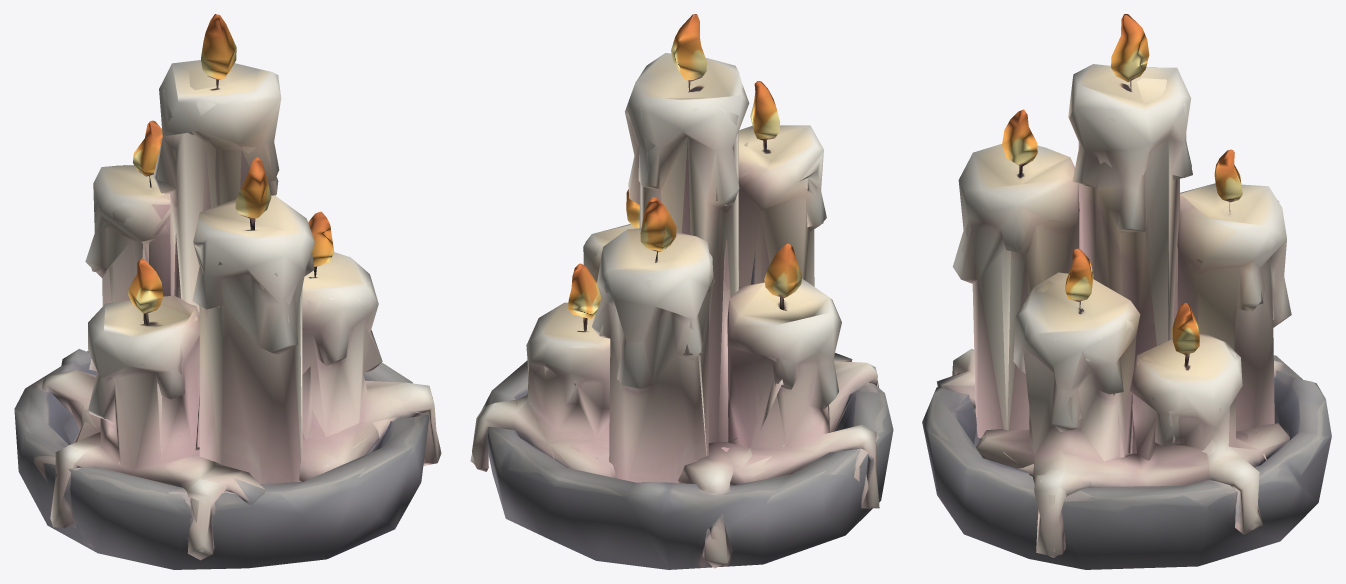
File: L10_CandleCluster_LOD2.fbx
The picture shows the model from 3 angles, left to right: view 1: azimuth 30°, elevation 25°; view 2: azimuth 150°, elevation 25°; view 3: azimuth 270°, elevation 25°; orthographic projection.
Visible parts, largest first — view 1: PART_Body.001, PART_Flame_11.001, PART_Flame_08.001, PART_Flame_10.001, PART_Flame_06.001, PART_Flame_07.001; view 2: PART_Body.001, PART_Flame_11.001, PART_Flame_06.001, PART_Flame_10.001, PART_Flame_09.001, PART_Flame_08.001; view 3: PART_Body.001, PART_Flame_11.001, PART_Flame_08.001, PART_Flame_07.001, PART_Flame_09.001, PART_Flame_06.001.
Part boxes in pixels (left/top/right/bottom): PART_Body.001: left=14, top=60, right=441, bottom=569; PART_Flame_11.001: left=201, top=14, right=236, bottom=80; PART_Flame_08.001: left=235, top=157, right=271, bottom=219; PART_Flame_10.001: left=128, top=258, right=163, bottom=313; PART_Flame_06.001: left=133, top=120, right=162, bottom=176; PART_Flame_07.001: left=308, top=211, right=334, bottom=266; PART_Body.001: left=470, top=53, right=893, bottom=569; PART_Flame_11.001: left=671, top=14, right=706, bottom=81; PART_Flame_06.001: left=640, top=197, right=676, bottom=251; PART_Flame_10.001: left=764, top=243, right=801, bottom=297; PART_Flame_09.001: left=568, top=263, right=601, bottom=319; PART_Flame_08.001: left=750, top=81, right=779, bottom=140; PART_Body.001: left=922, top=64, right=1331, bottom=569; PART_Flame_11.001: left=1111, top=14, right=1149, bottom=81; PART_Flame_08.001: left=1002, top=109, right=1037, bottom=166; PART_Flame_07.001: left=1065, top=248, right=1093, bottom=301; PART_Flame_09.001: left=1172, top=303, right=1199, bottom=354; PART_Flame_06.001: left=1214, top=149, right=1242, bottom=202.
Bounding box in the file's own units: 0.2754 × 0.3492 × 0.2736.
7 materials, 7 textured.
